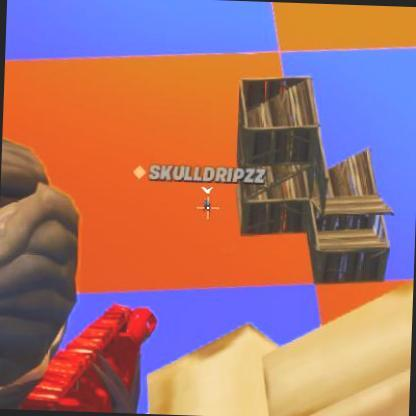person: (206, 199, 214, 208)
